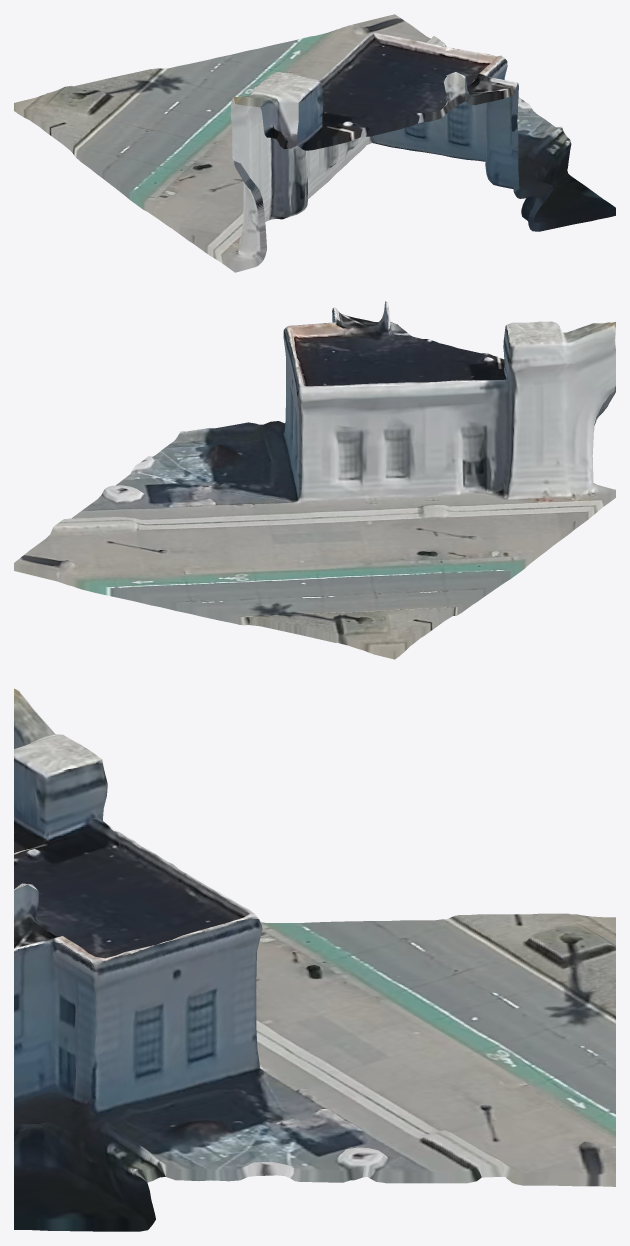
File: z20-167777-405203-h0-yup-uvflip-v3-world.glb
3 renders of one model, top to bottom at view 1: azimuth 30°, elevation 25°; view 2: azimuth 150°, elevation 25°; view 3: azimuth 270°, elevation 25°, orthographic. The views are drawn at different scales.
Size of the model in its own units: 30.16 by 16.12 by 30.32.
1 material, 1 textured.
